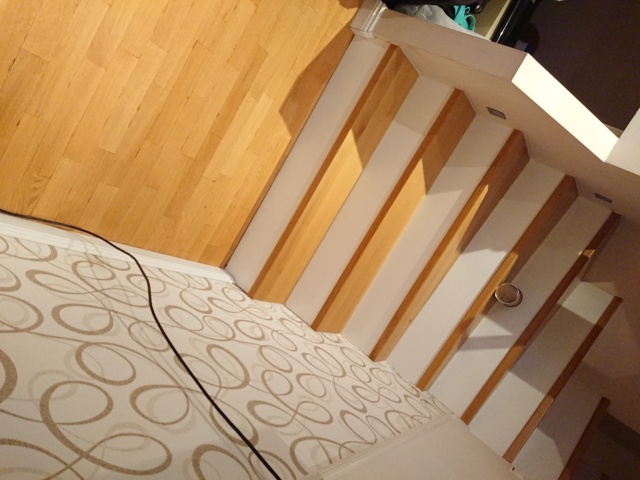Nescafe Classic 225g: (493, 281, 525, 309)
